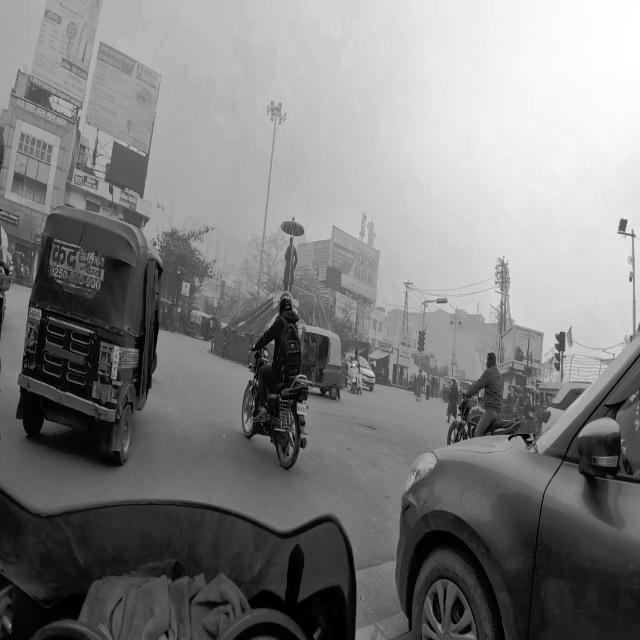Auto-Rickshaw: (16, 196, 166, 476), (291, 322, 348, 403)
Bike: (246, 292, 314, 482), (446, 364, 518, 444), (352, 352, 364, 394)
Car: (392, 340, 640, 639), (342, 351, 377, 392)
